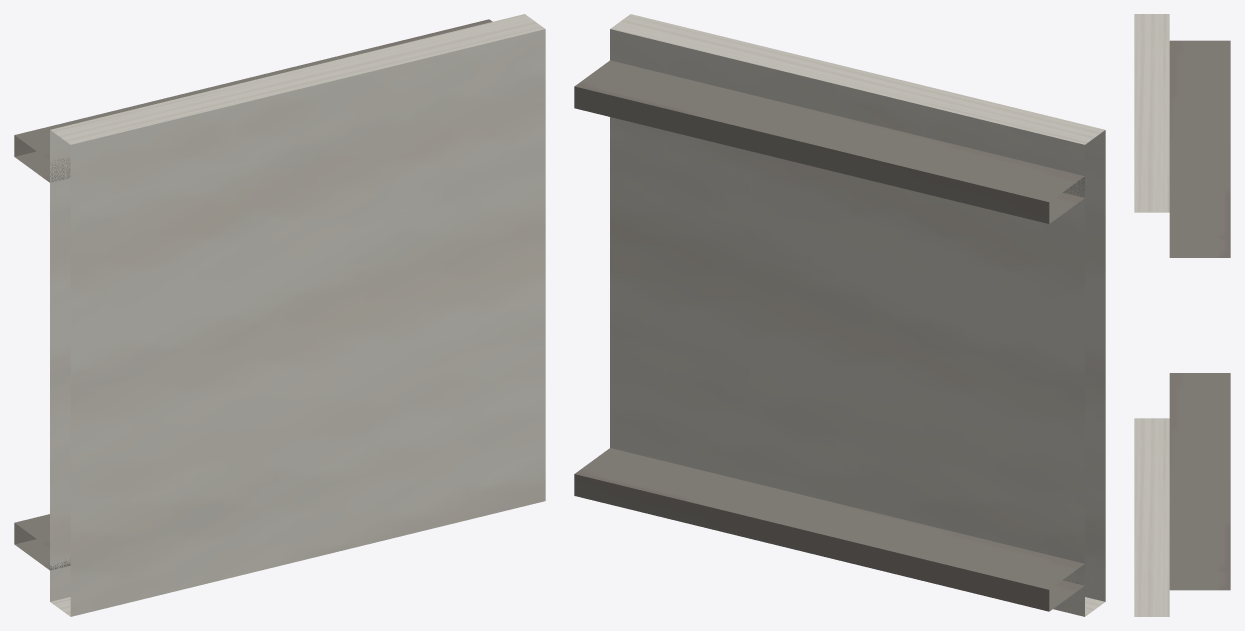
The model's file is pz_table_tables_high_02_long_white_1_0.obj.
The picture shows the model from 3 angles, left to right: view 1: azimuth 30°, elevation 25°; view 2: azimuth 150°, elevation 25°; view 3: azimuth 270°, elevation 25°; orthographic projection. The views are drawn at different scales.
Size of the model in its own units: 1 by 0.95 by 0.205.
Materials: 1 (1 with a texture image).
